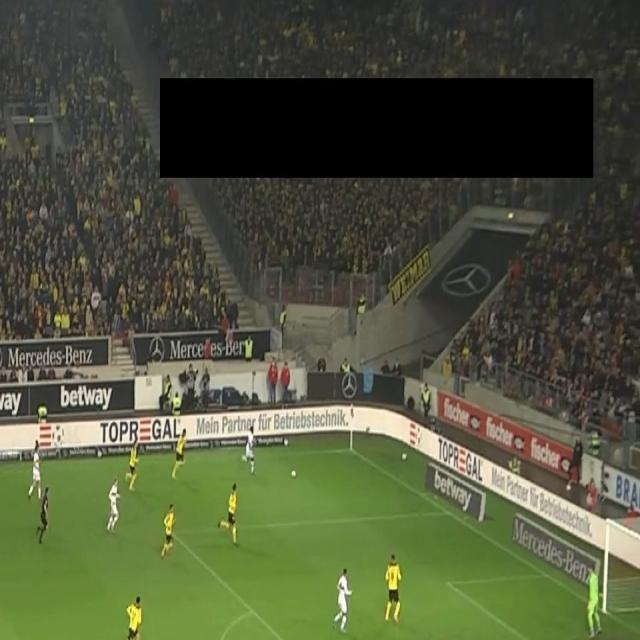ball: (290, 468, 297, 480)
